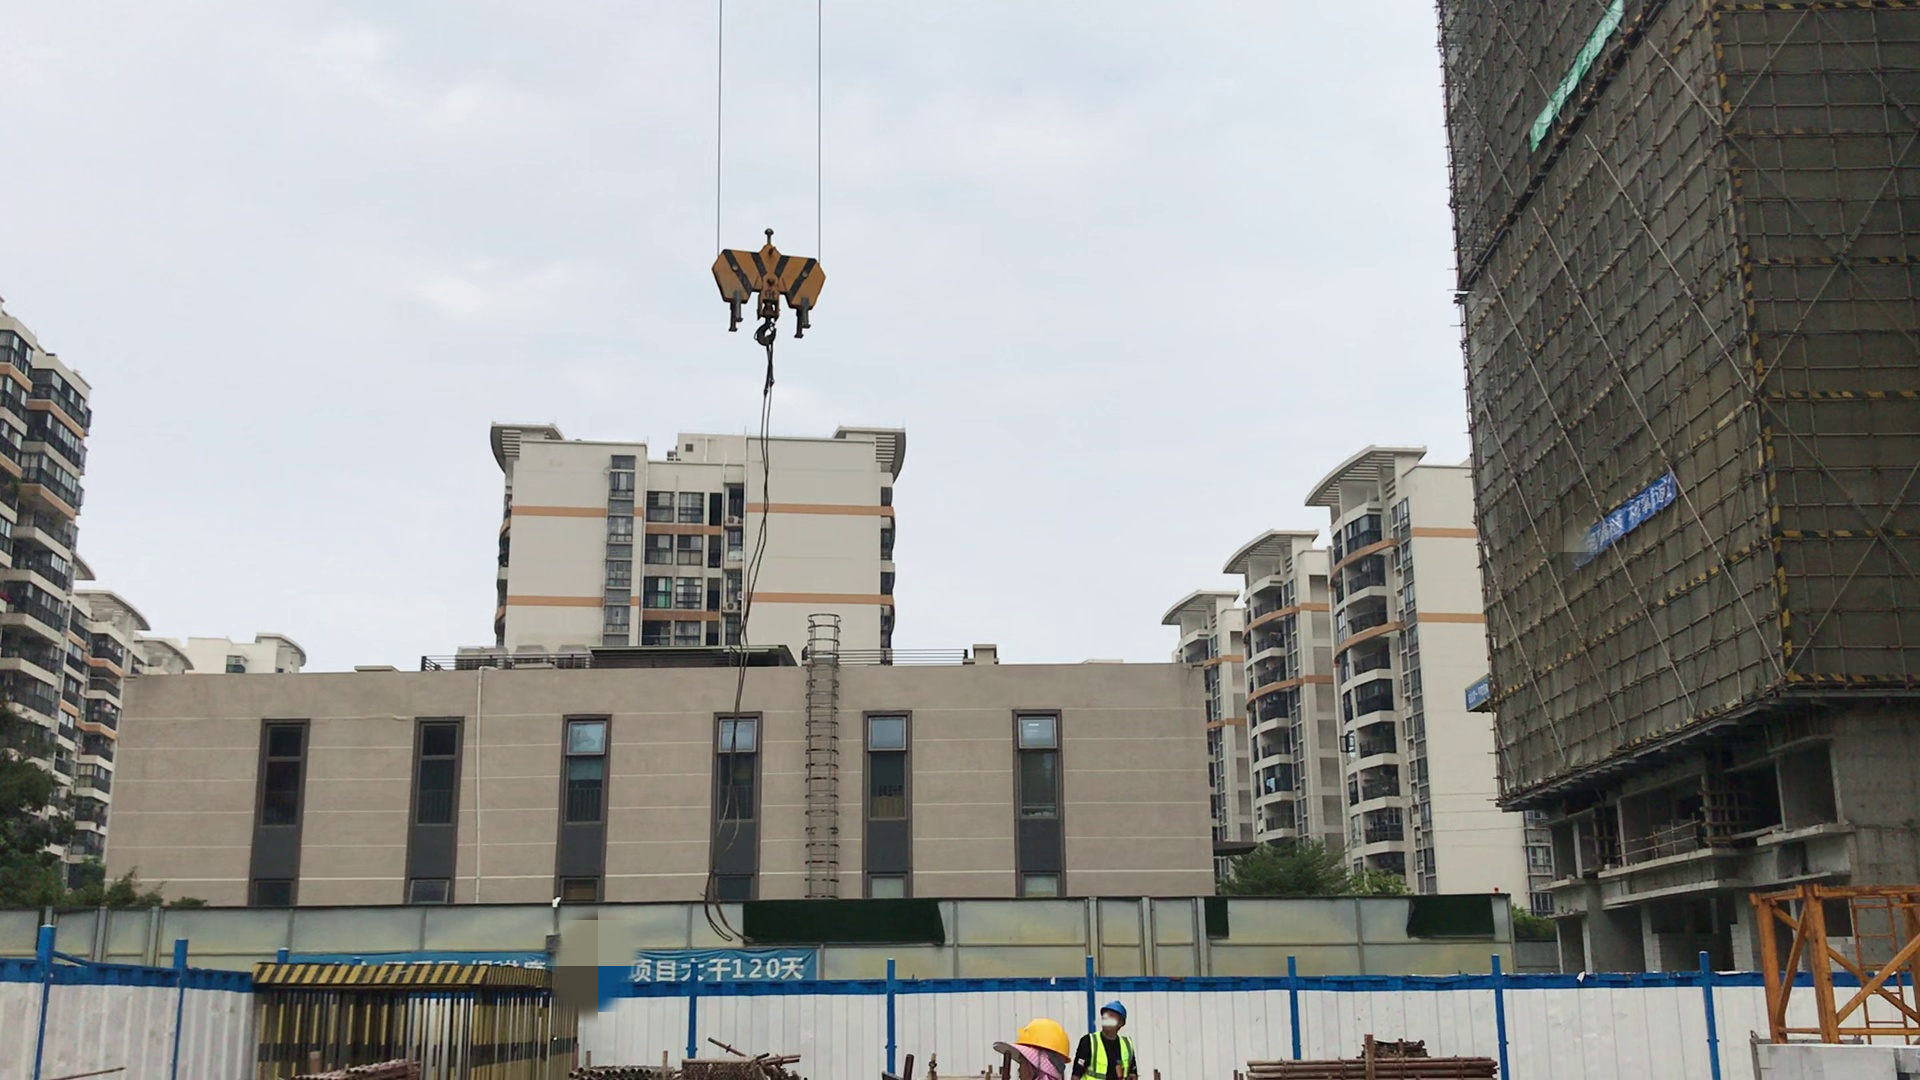helmet: (1007, 1015, 1067, 1063), (1100, 997, 1127, 1024)
hook: (700, 224, 829, 353)
person: (1074, 1000, 1145, 1079), (995, 1014, 1071, 1080)
slogan: (496, 940, 817, 999), (1529, 4, 1630, 165), (1564, 477, 1679, 568)
